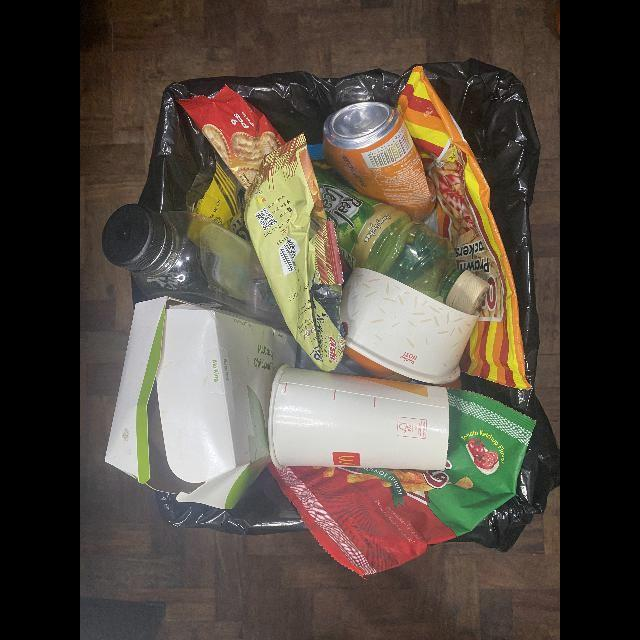aluminum: (323, 100, 437, 221)
cardboard: (103, 298, 298, 510), (267, 363, 451, 472), (340, 263, 482, 385)
food_wrapper: (264, 390, 538, 577), (396, 66, 531, 388), (247, 133, 347, 373), (179, 83, 288, 191), (185, 148, 251, 241)
plastic_bottle: (313, 168, 489, 316), (101, 203, 290, 337)
